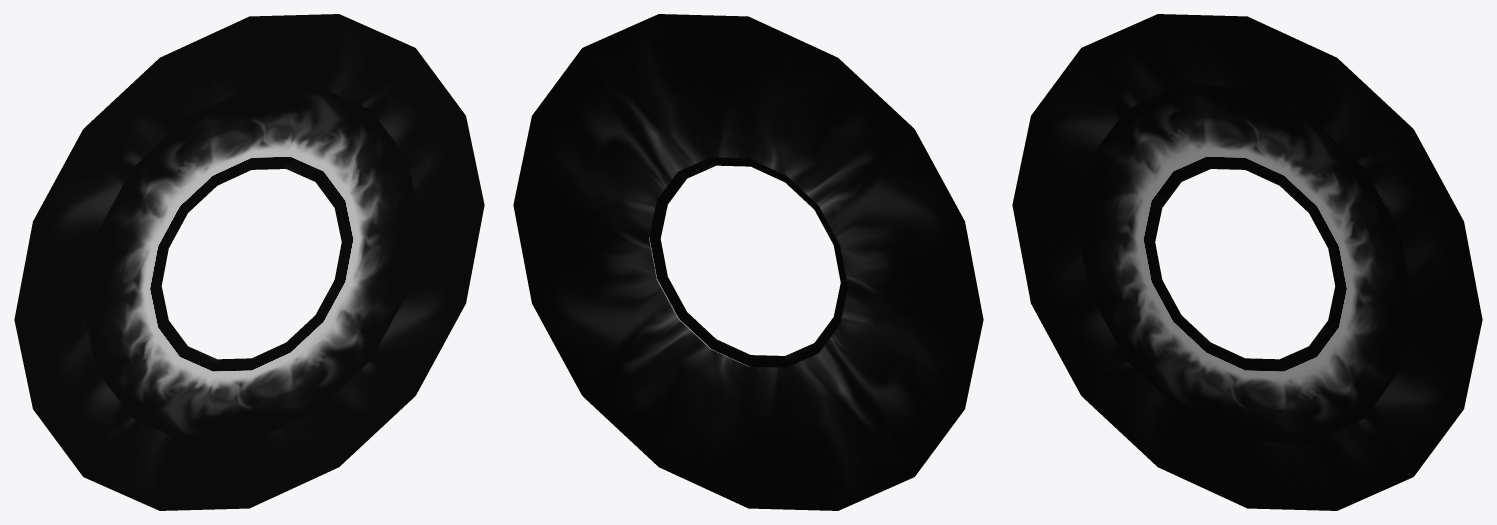
The model's file is sunCarona.fbx.
The picture shows the model from 3 angles, left to right: view 1: azimuth 30°, elevation 25°; view 2: azimuth 150°, elevation 25°; view 3: azimuth 330°, elevation 25°; orthographic projection.
Visible parts, largest first — view 1: SolCarona; view 2: SolCarona; view 3: SolCarona.
Part boxes in pixels (box(x1,y1,x2,y2)): SolCarona: box(14, 14, 484, 510); SolCarona: box(513, 14, 983, 510); SolCarona: box(1012, 14, 1482, 510).
Bounding box in the file's own units: 152 × 152 × 1.26.
